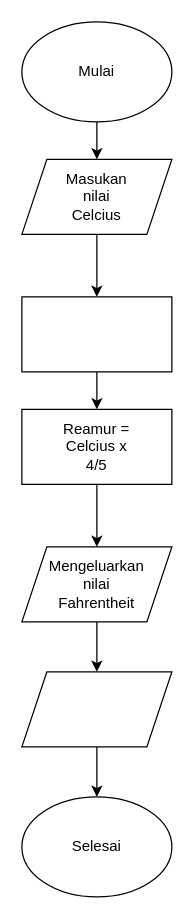
This 194x919 diagram has some shape labels left out. The shapes that lost their labels are listed below. From the top down, each one's centre as x and y in pixels, then its label:
At point 96,334: "Fahrentheit = (Celcius x 9/5) + 32".
At point 96,709: "Mengeluarkan nilai Reamur".
